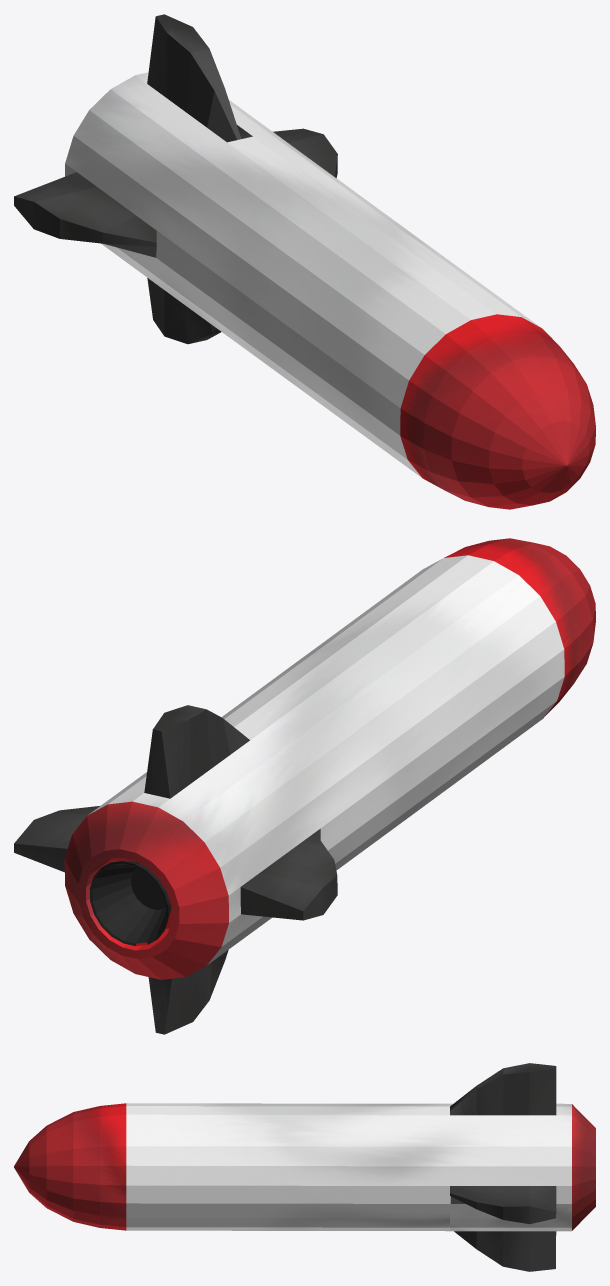
Rendered from Missile-1.dae.
3 views of the same model, one above another, from view 1: azimuth 30°, elevation 25°; view 2: azimuth 150°, elevation 25°; view 3: azimuth 270°, elevation 25° (orthographic). The views are drawn at different scales.
Parts seen in each view (by area): view 1: Cylinder4-0; view 2: Cylinder4-0; view 3: Cylinder4-0.
Part boxes in pixels (x1=…): Cylinder4-0: x1=14, y1=14, x2=595, y2=509; Cylinder4-0: x1=14, y1=538, x2=595, y2=1034; Cylinder4-0: x1=14, y1=1063, x2=595, y2=1271.
Bounding box in the file's own units: 0.6972 × 0.6972 × 1.83.
